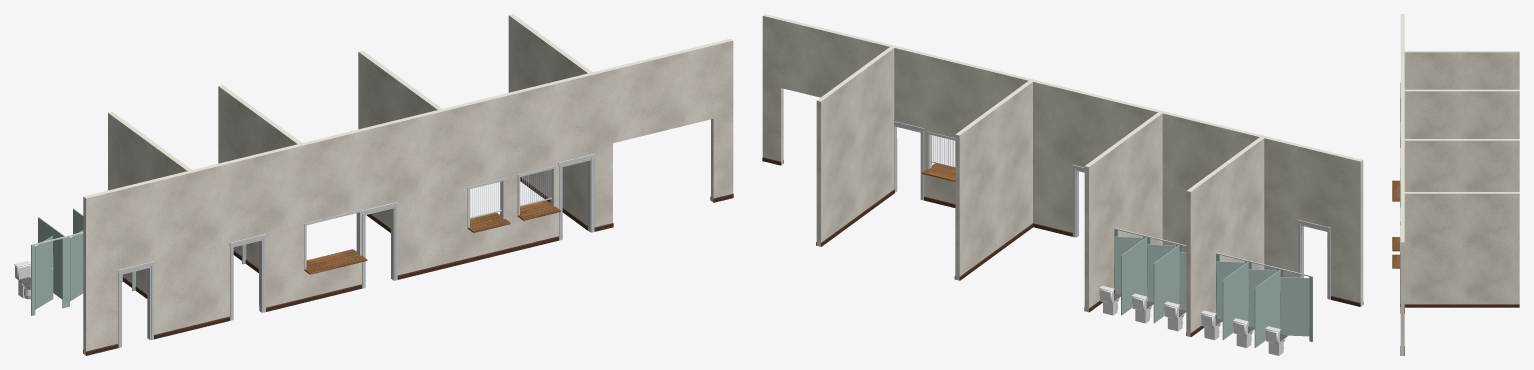
File: plan.glb
The picture shows the model from 3 angles, left to right: view 1: azimuth 30°, elevation 25°; view 2: azimuth 150°, elevation 25°; view 3: azimuth 270°, elevation 25°; orthographic projection. The views are drawn at different scales.
Visible parts, largest first — view 1: plan_plaster, plan_stall, plan_frame, plan_dkwood, plan_wood, plan_glass, plan_metal, plan_chrome; view 2: plan_plaster, plan_stall, plan_porcelain, plan_frame, plan_dkwood, plan_chrome; view 3: plan_plaster, plan_dkwood, plan_wood, plan_frame.
Boxes of the visible parts, bbox=[...] form: plan_plaster: bbox=[83, 14, 733, 355]; plan_stall: bbox=[31, 208, 246, 315]; plan_frame: bbox=[118, 154, 594, 347]; plan_dkwood: bbox=[83, 177, 733, 355]; plan_wood: bbox=[304, 200, 560, 274]; plan_glass: bbox=[470, 170, 551, 217]; plan_metal: bbox=[304, 166, 555, 269]; plan_chrome: bbox=[28, 169, 551, 270]; plan_plaster: bbox=[762, 14, 1363, 336]; plan_stall: bbox=[1114, 229, 1312, 347]; plan_porcelain: bbox=[1099, 285, 1285, 355]; plan_frame: bbox=[894, 121, 1330, 299]; plan_dkwood: bbox=[762, 157, 1363, 336]; plan_chrome: bbox=[930, 134, 1312, 323]; plan_plaster: bbox=[1400, 14, 1519, 355]; plan_dkwood: bbox=[1400, 304, 1519, 355]; plan_wood: bbox=[1392, 180, 1399, 268]; plan_frame: bbox=[1400, 82, 1400, 306].
Bounding box in the file's own units: 19.4 × 4.5 × 4.57.
10 materials, 3 textured.
